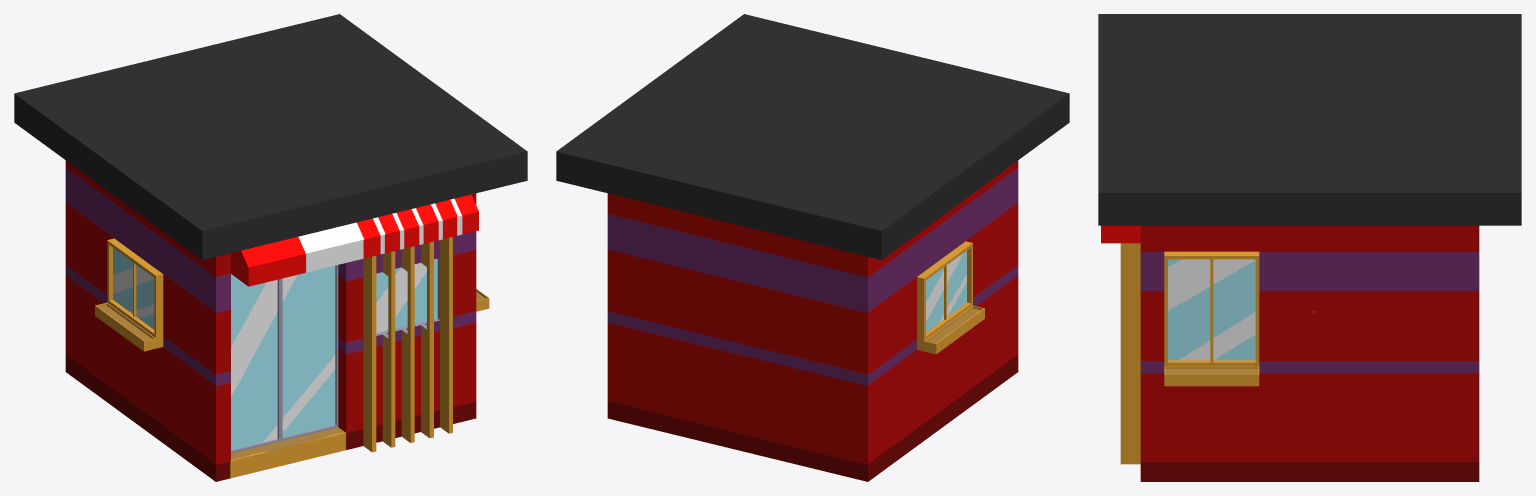
Rendered from Shopsshop3.fbx.
3 views of the same model, side by side, from view 1: azimuth 30°, elevation 25°; view 2: azimuth 150°, elevation 25°; view 3: azimuth 270°, elevation 25° (orthographic). The views are drawn at different scales.
Parts seen in each view (by area): view 1: shop3; view 2: shop3; view 3: shop3.
Part boxes in pixels (bbox=[...]): shop3: bbox=[14, 14, 527, 481]; shop3: bbox=[556, 14, 1069, 481]; shop3: bbox=[1098, 14, 1521, 481].
Bounding box in the file's own units: 2.5 × 2.5 × 2.
1 material, 1 textured.
